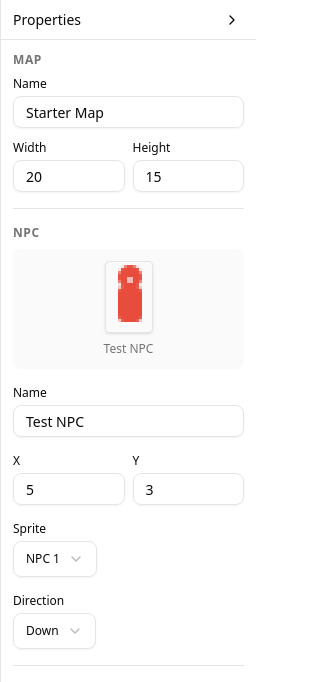
PropertiesPanel › NPC properties › should allow editing NPC name
Clear the field showing "Test NPC" below "Test NPC" at coordinates (128, 421), box [13,405,244,437]
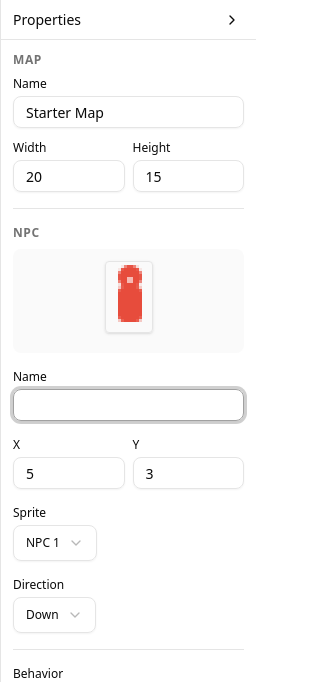
Type "Renamed NPC" into the 2nd field showing "Test NPC".
click(128, 405); type("Renamed NPC")  # box [13,389,244,421]
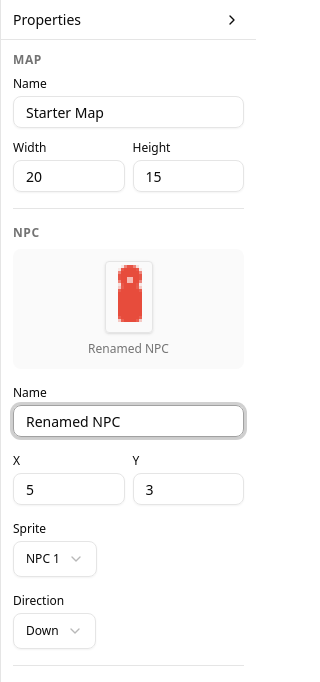
Now the text "Renamed NPC" is shown, box [88,341,169,357]
